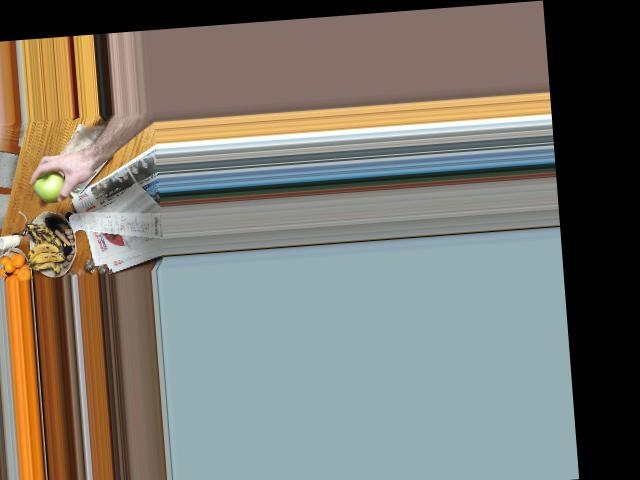apple: (30, 170, 68, 201)
